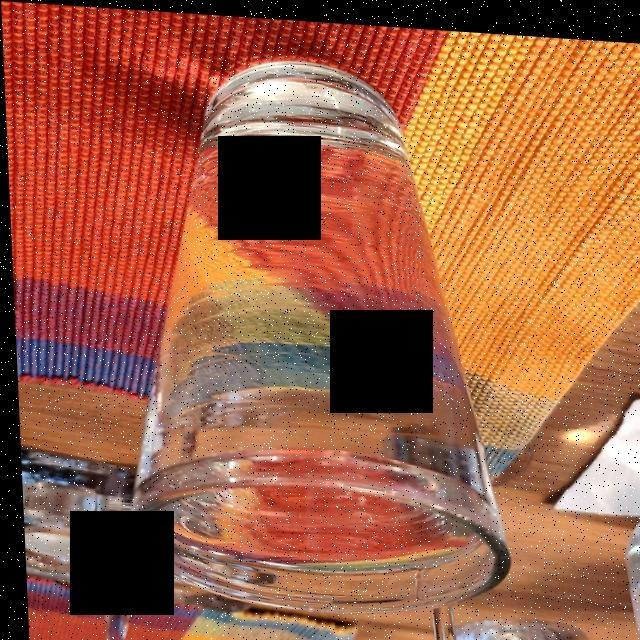water: (143, 92, 486, 576)
